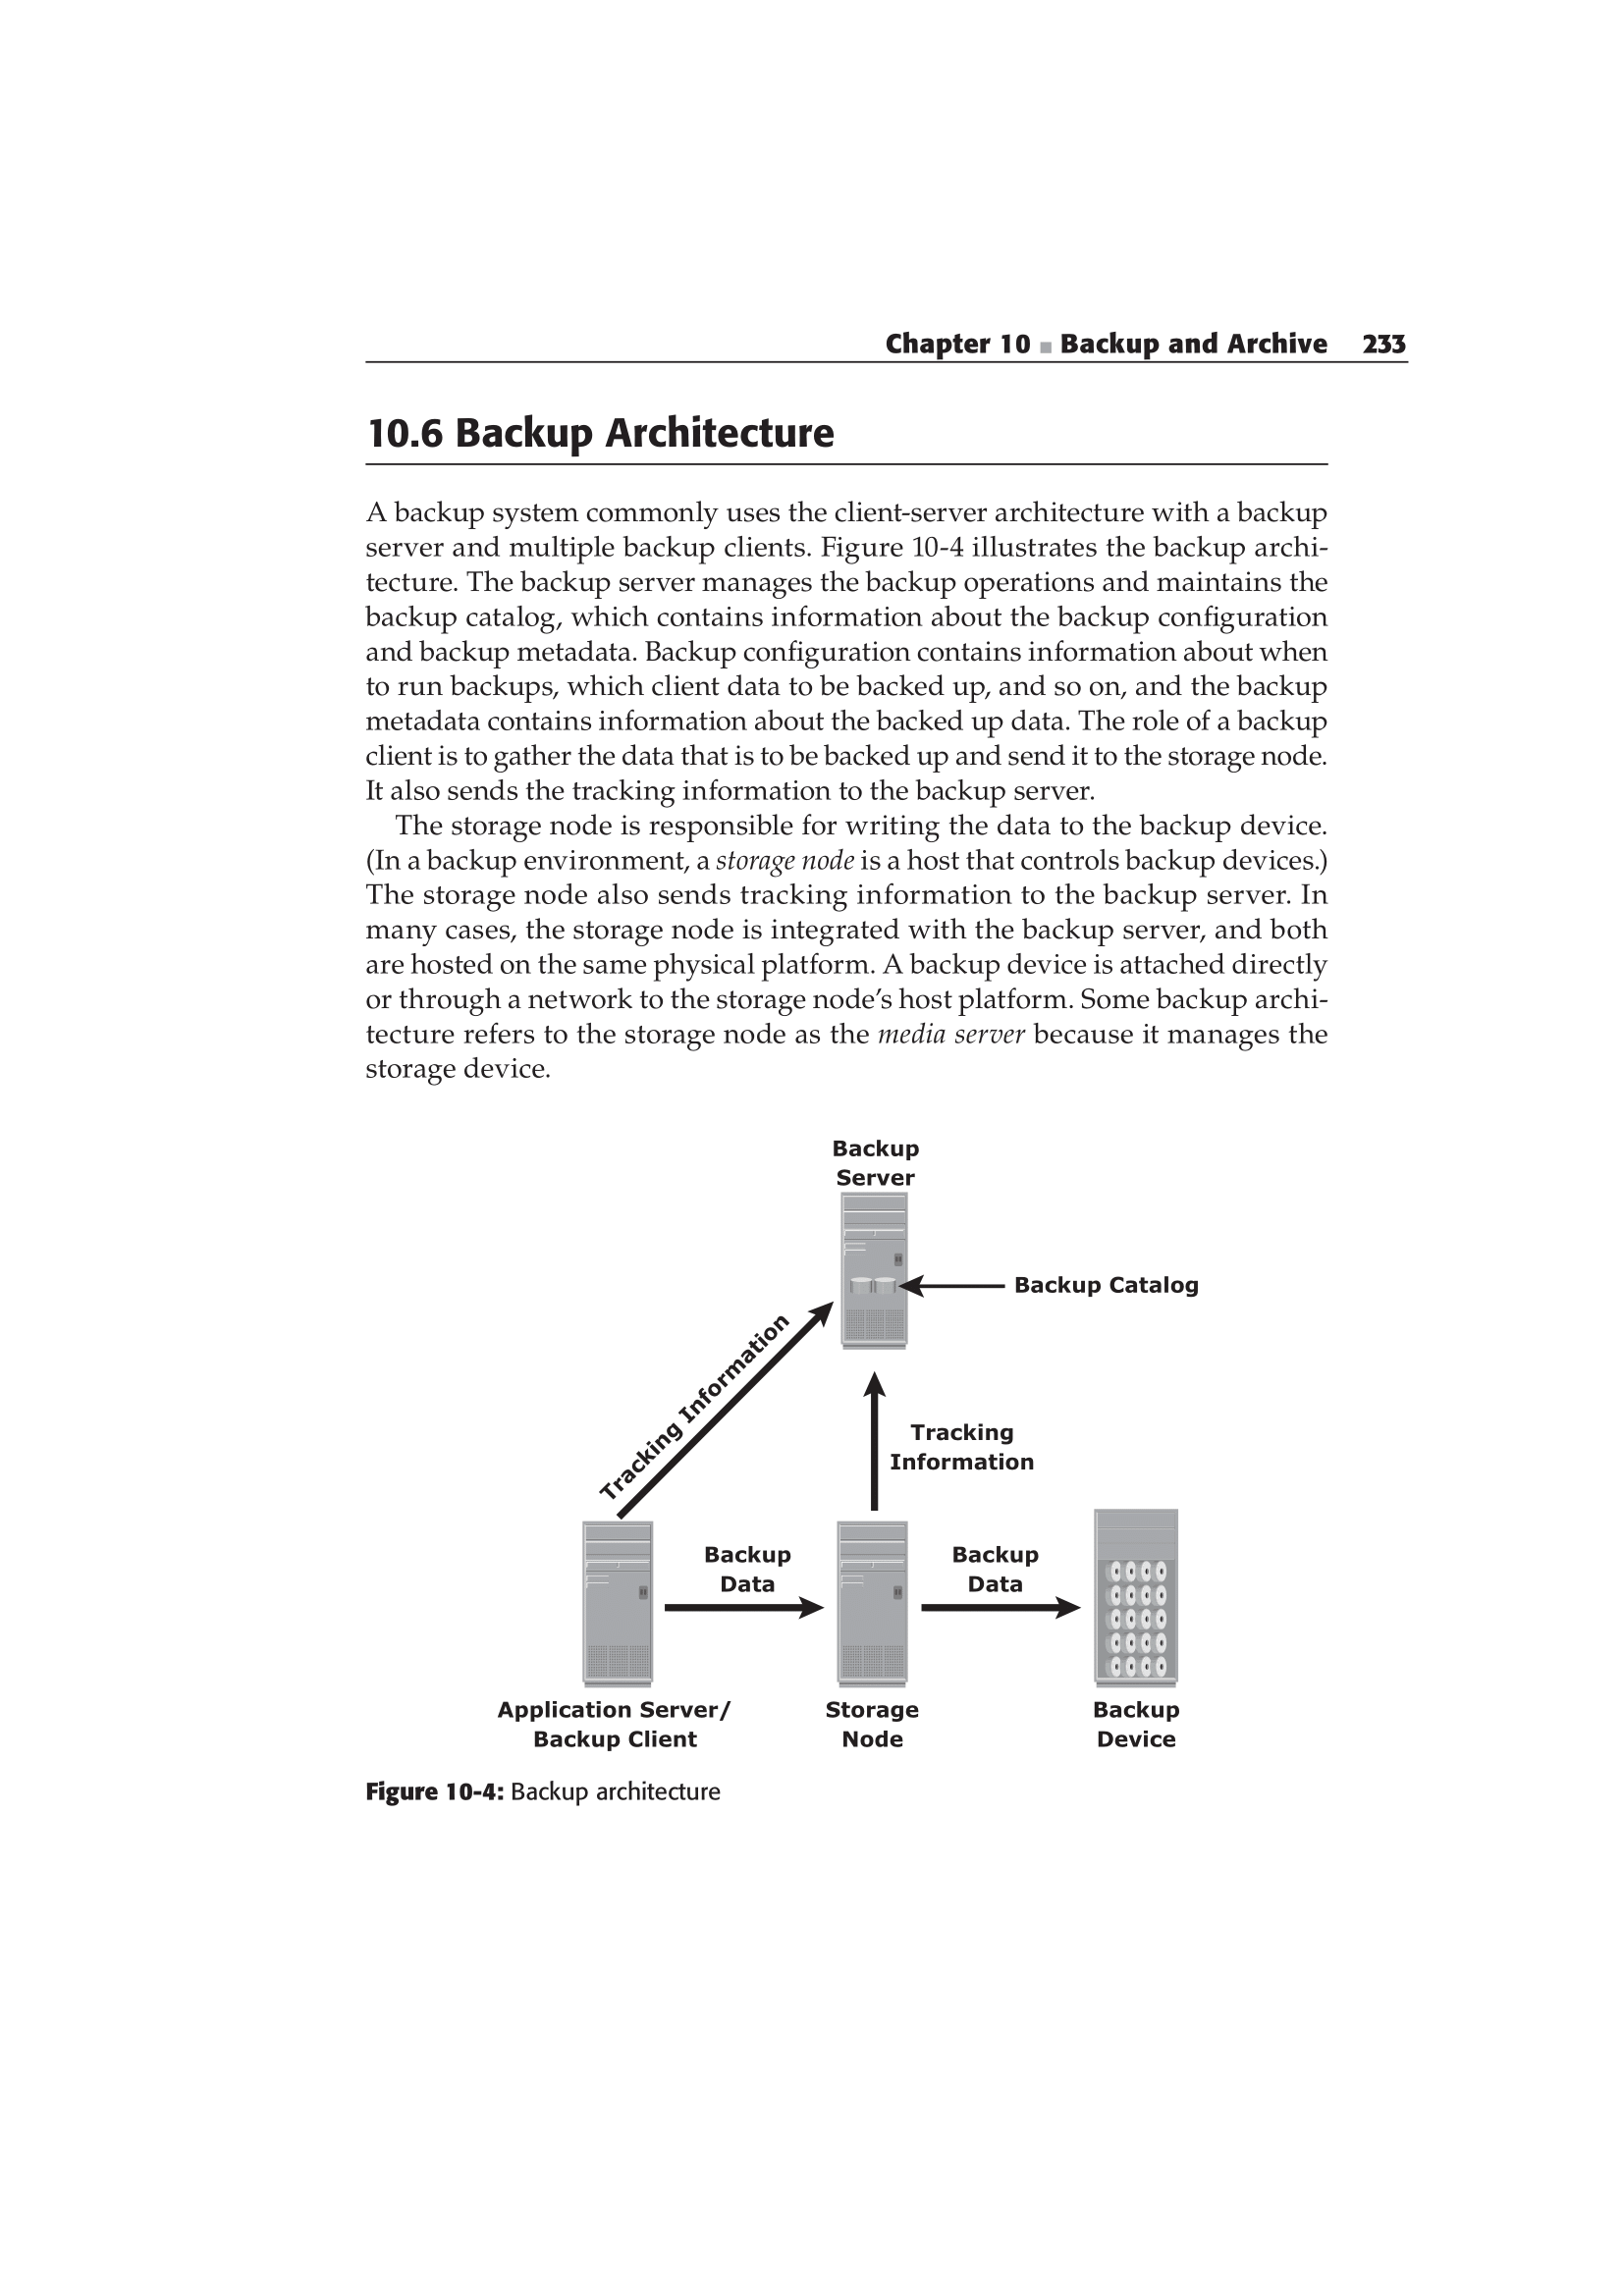Image: (330, 1123, 1590, 1833)
Paragraph: (297, 495, 1484, 809), (256, 816, 1533, 1094), (272, 386, 973, 474), (829, 293, 1403, 360)
